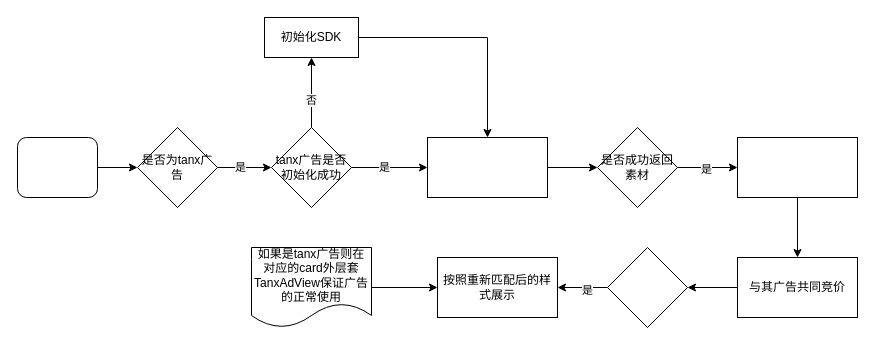
Image size: 875x345. Some labels were removed from this diagram. The centre of each missing label's shape, as x and y in pixels:
根据投放样式和素材类型过滤素材和重新匹配样式: the point at 797,167
竞价是否成功: the point at 647,287
请求信息流广告: the point at 487,167
请求墨迹广告服务器: the point at 57,167
